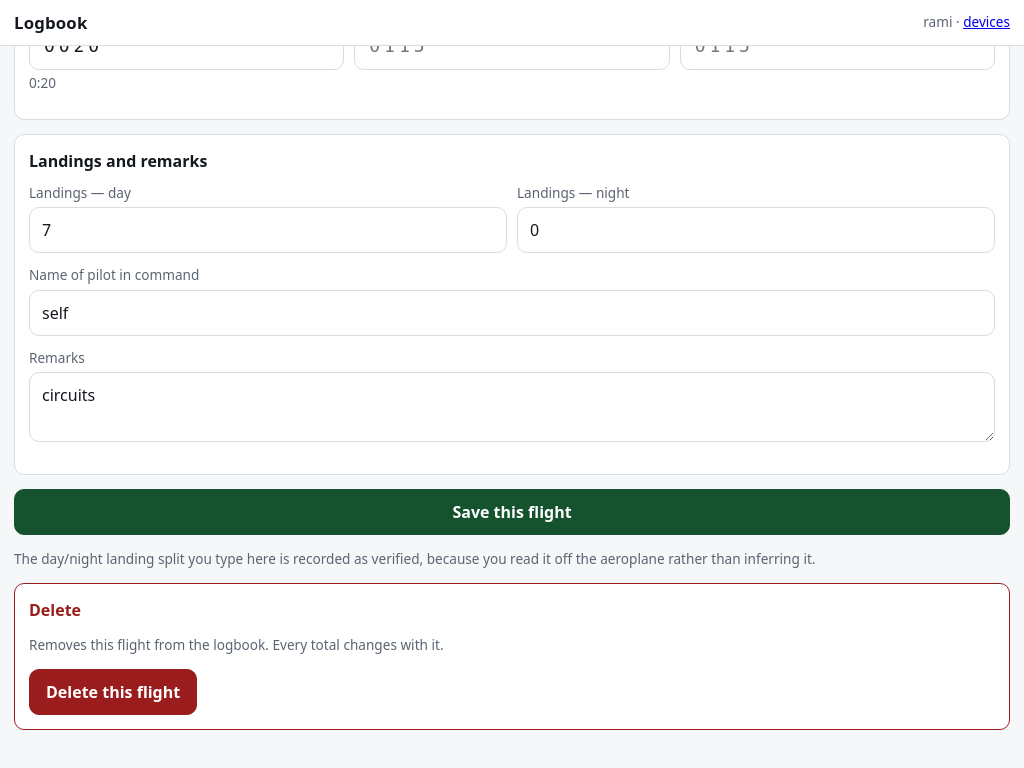
Test: deleting a flight › does not delete on the first tap
(page scrolled)
Click the button "Delete this flight": (113, 692) x1=29 y1=669 x2=197 y2=715
(page scrolled)
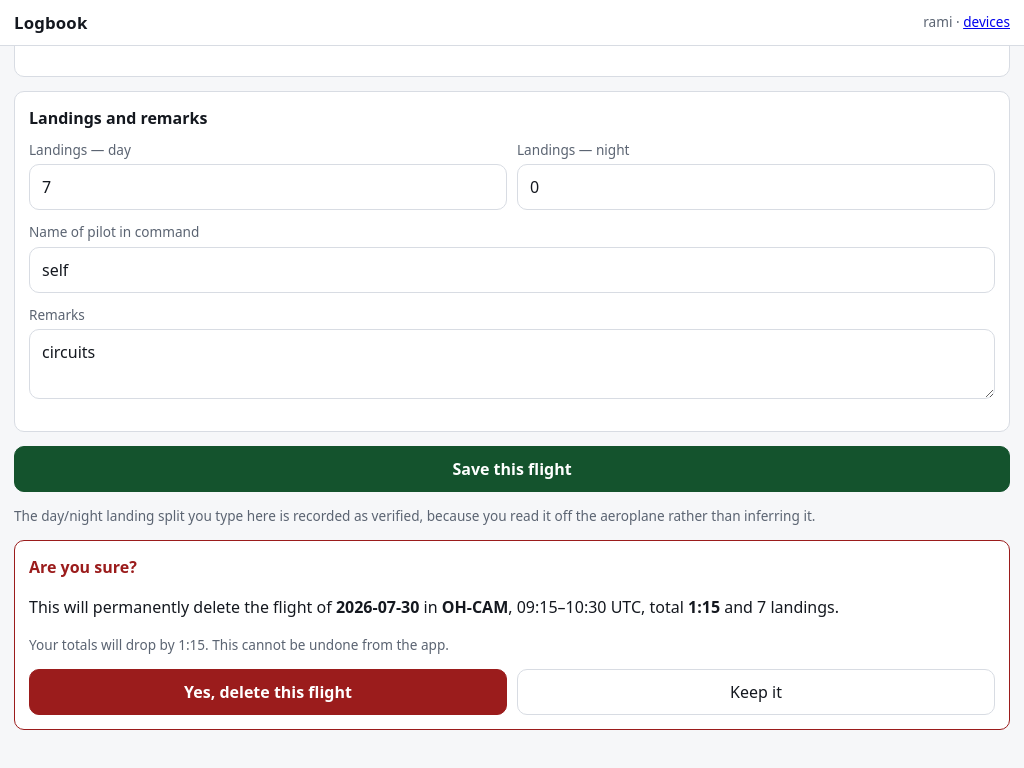
Expected: the dialog is shown, x1=14 y1=540 x2=1010 y2=730
